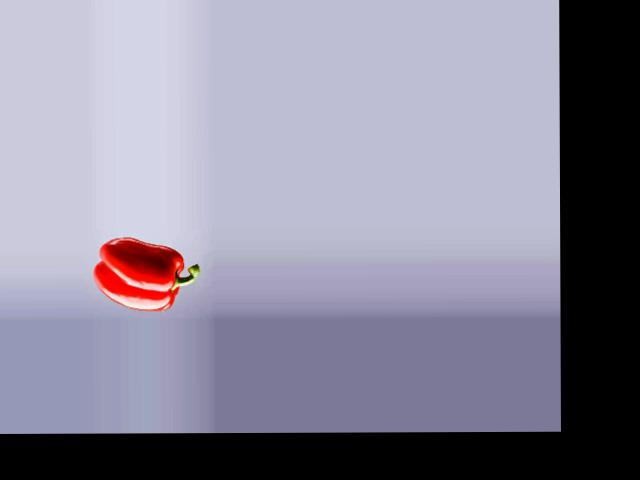bell_pepper: (96, 235, 200, 314)
